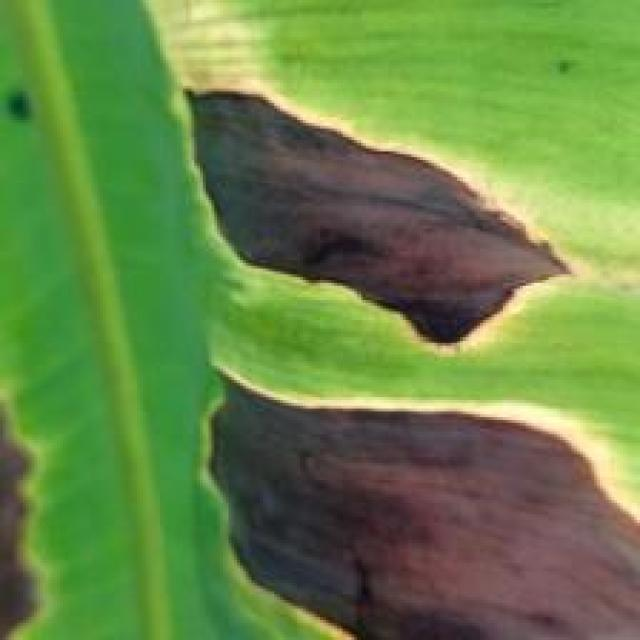Bacterial_spot: (171, 340, 640, 637), (160, 67, 588, 370), (0, 385, 81, 637), (546, 47, 592, 102), (1, 79, 46, 135)
